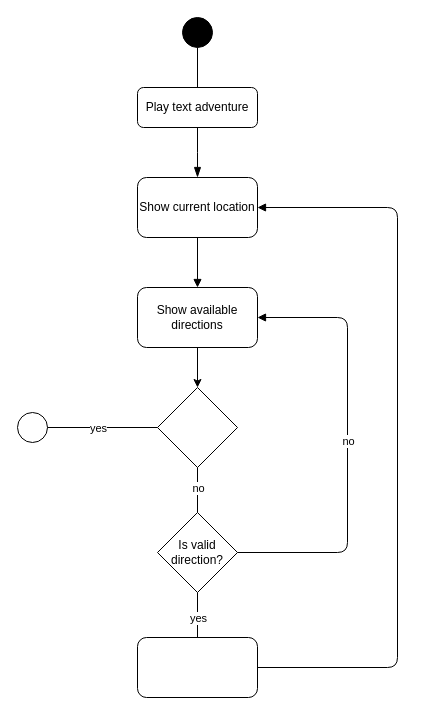
Image size: 423x715. Some labels were removed from this diagram. Each missing label, with the centre of its shape:
Walk direction: (x=197, y=667)
Want to end?: (x=197, y=427)
